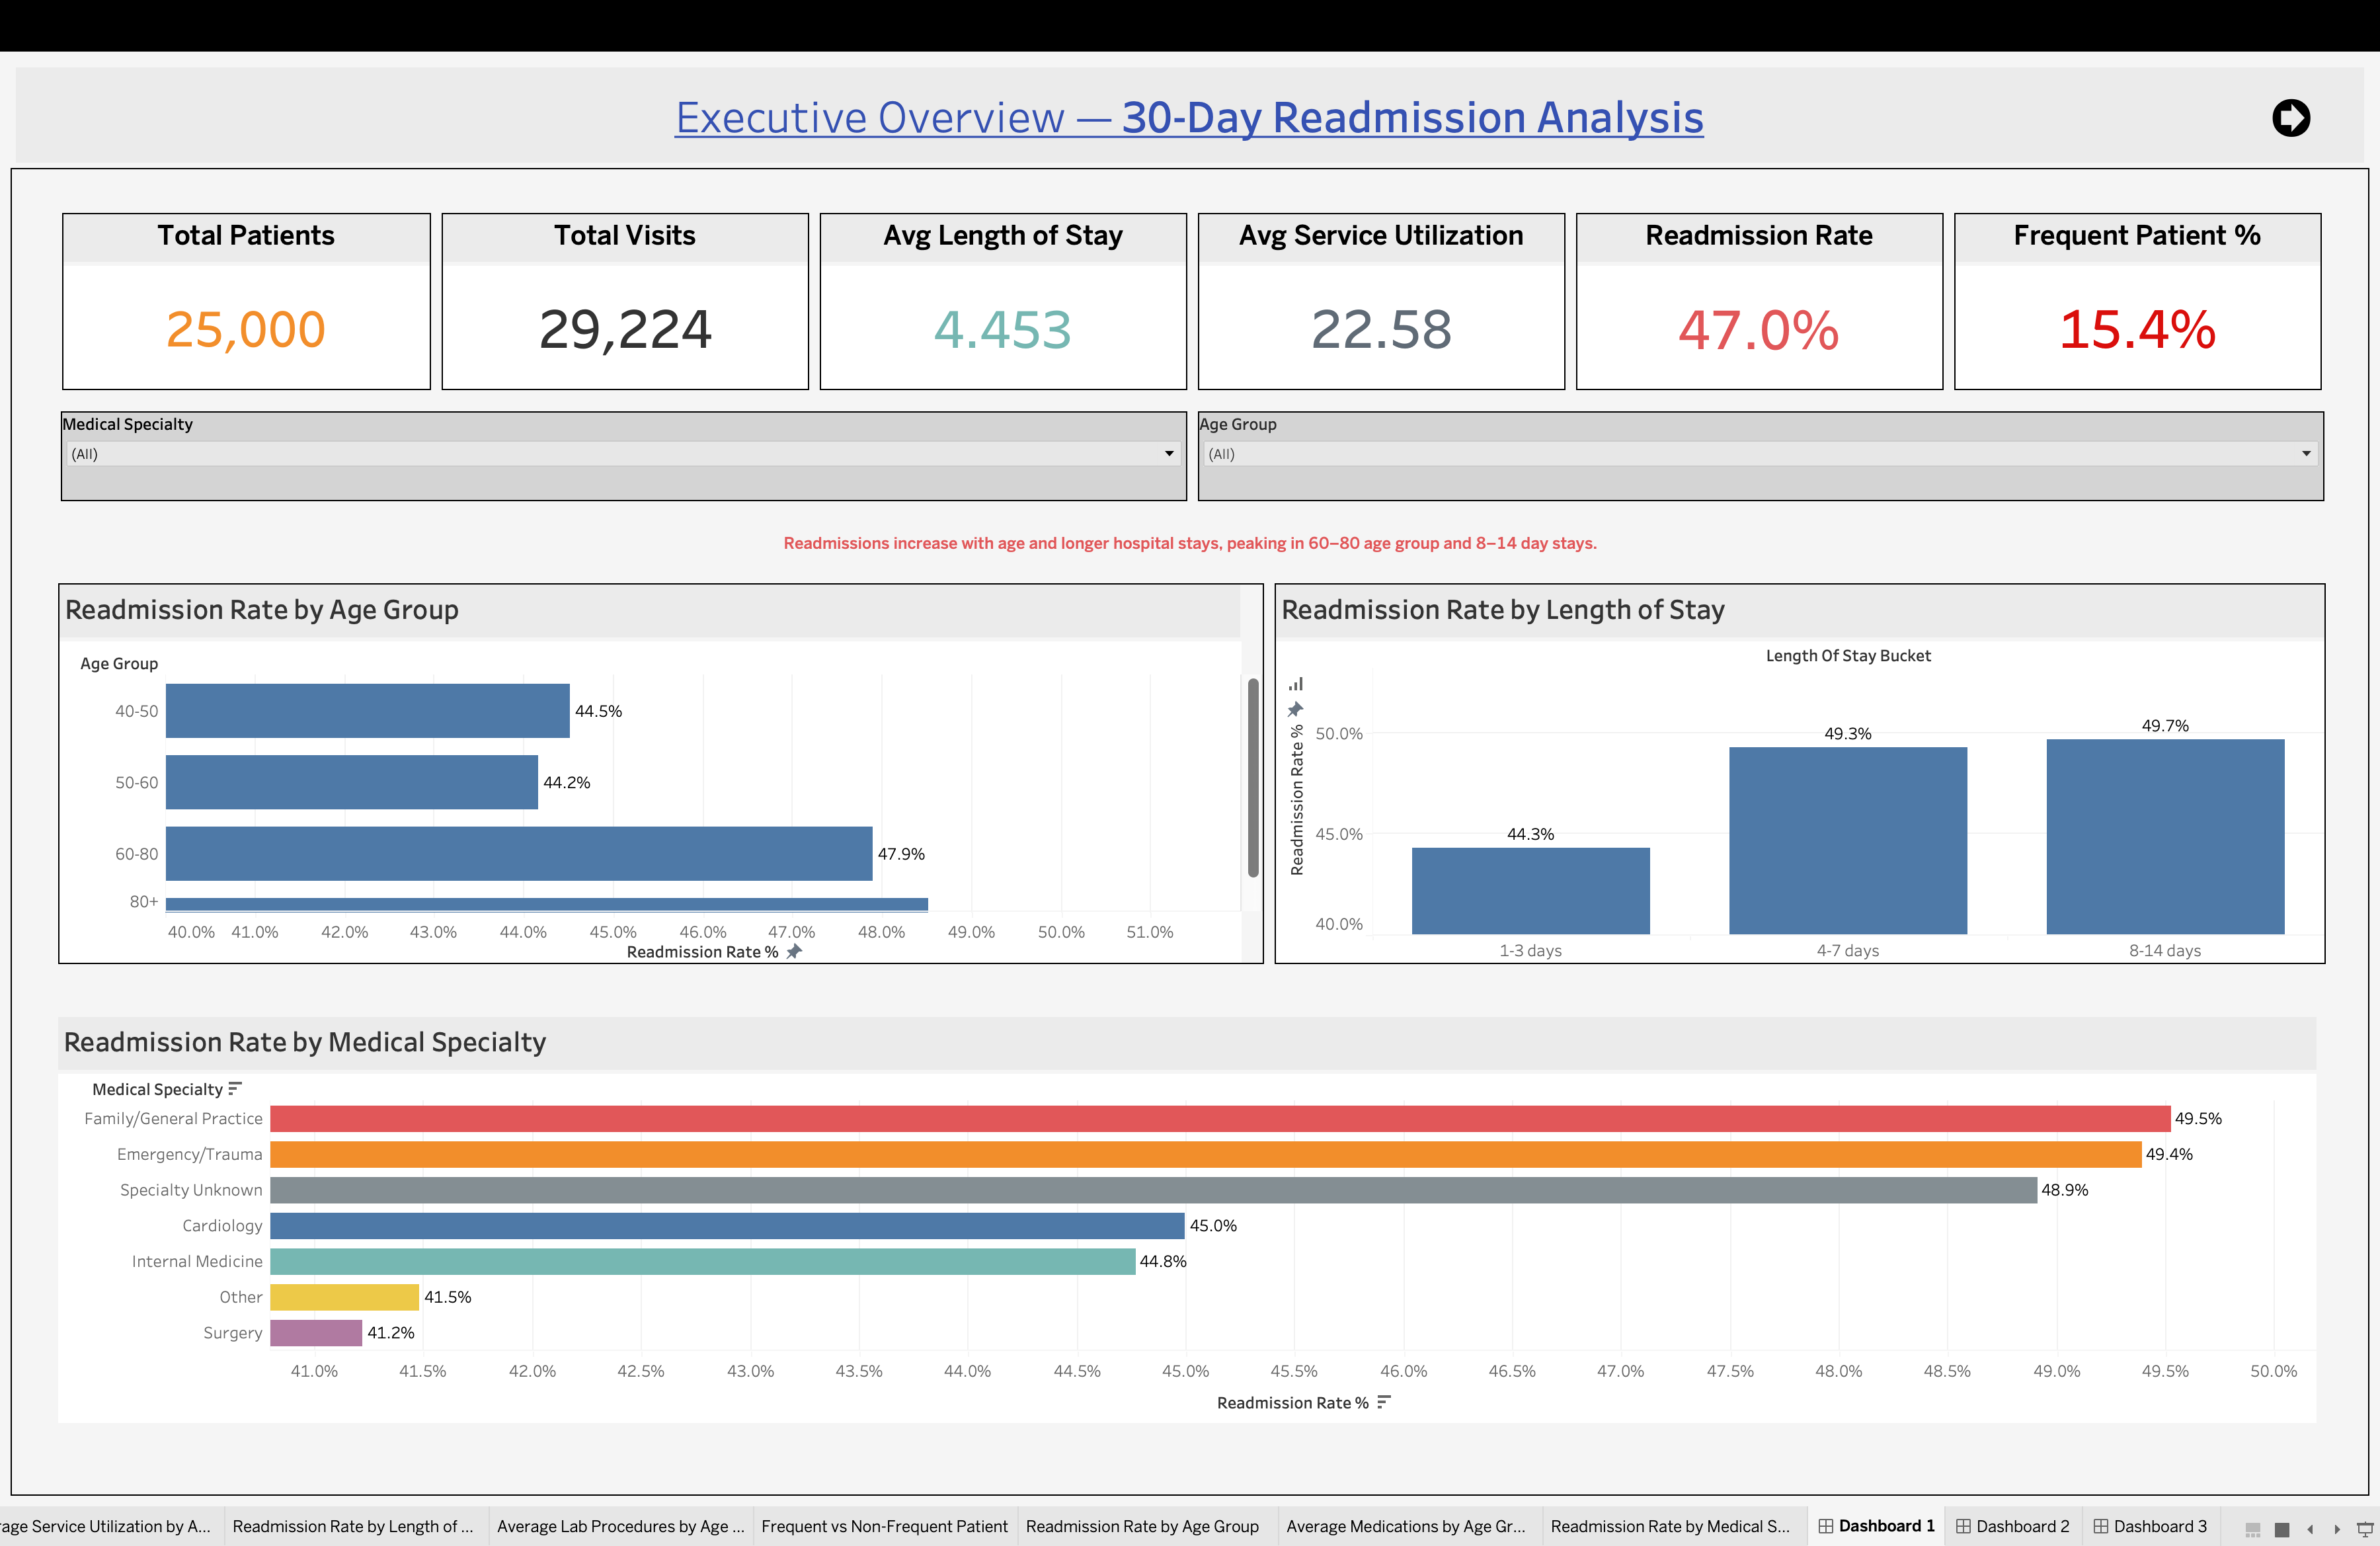

The page's visual inventory and layout, read from the dashboard file:
{"tool":"tableau","page":{"name":"Dashboard 1","canvas":[1000,1000],"units":"permille","ordinal":0},"visuals":[{"type":"title","box":[5.3,7.7,989.4,77.1]},{"type":"dashboard-object","box":[936.7,21.2,52.8,50.1]},{"type":"worksheet","title":"KPI – Total Patients","mark":"Automatic","box":[23.8,106.9,159,129.1]},{"type":"worksheet","title":"KPI – Total Visits","mark":"Automatic","box":[182.7,106.9,159,129.1]},{"type":"worksheet","title":"KPI – Avg Length of Stay","mark":"Automatic","box":[341.7,106.9,159,129.1]},{"type":"worksheet","title":"KPI – Avg Service Utilization","mark":"Automatic","box":[500.7,106.9,159,129.1]},{"type":"worksheet","title":"KPI – Readmission Rate","mark":"Automatic","box":[659.6,106.9,159,129.1]},{"type":"worksheet","title":"KPI – Frequent Patient %","mark":"Automatic","box":[818.6,106.9,159,129.1]},{"type":"filter","title":"Readmission Rate by Medical Specialty","param":"[federated.0si64f10hav03x15ncmpk0dghz5k].[none:medical_specialty:ok]","box":[23.1,243.7,478.2,69.4]},{"type":"filter","title":"Readmission Rate by Medical Specialty","param":"[federated.0si64f10hav03x15ncmpk0dghz5k].[none:age_group:ok]","box":[501.3,243.7,477.6,69.4]},{"type":"text","box":[25.1,323.7,950.5,29.9]},{"type":"worksheet","title":"Readmission Rate by Age Group","mark":"Bar","rows":["age_group"],"cols":["Calculation_3040557400469504"],"box":[22.4,362.2,606.9,268.8]},{"type":"worksheet","title":"Readmission Rate by Length of Stay","mark":"Automatic","rows":["Calculation_3040557400469504"],"cols":["length_of_stay_bucket"],"box":[629.3,362.2,350.3,268.8]},{"type":"worksheet","title":"Readmission Rate by Medical Specialty","mark":"Bar","rows":["medical_specialty"],"cols":["Calculation_3040557400469504"],"box":[22.4,659.9,953.2,313.1]}]}

Visuals, with their boxes on the dashboard's canvas, which has no fixed pixel size, in thousandths of its width and height (x1, y1, x2, y2). These are canvas units, not pixel positions in the 2380x1546 screenshot, which may show the page scaled, cropped or inside an application window:
title: region(5, 8, 995, 85)
dashboard-object: region(937, 21, 990, 71)
"KPI – Total Patients" worksheet: region(24, 107, 183, 236)
"KPI – Total Visits" worksheet: region(183, 107, 342, 236)
"KPI – Avg Length of Stay" worksheet: region(342, 107, 501, 236)
"KPI – Avg Service Utilization" worksheet: region(501, 107, 660, 236)
"KPI – Readmission Rate" worksheet: region(660, 107, 819, 236)
"KPI – Frequent Patient %" worksheet: region(819, 107, 978, 236)
"Readmission Rate by Medical Specialty" filter: region(23, 244, 501, 313)
"Readmission Rate by Medical Specialty" filter: region(501, 244, 979, 313)
text: region(25, 324, 976, 354)
"Readmission Rate by Age Group" worksheet (Bar marks): region(22, 362, 629, 631)
"Readmission Rate by Length of Stay" worksheet: region(629, 362, 980, 631)
"Readmission Rate by Medical Specialty" worksheet (Bar marks): region(22, 660, 976, 973)
